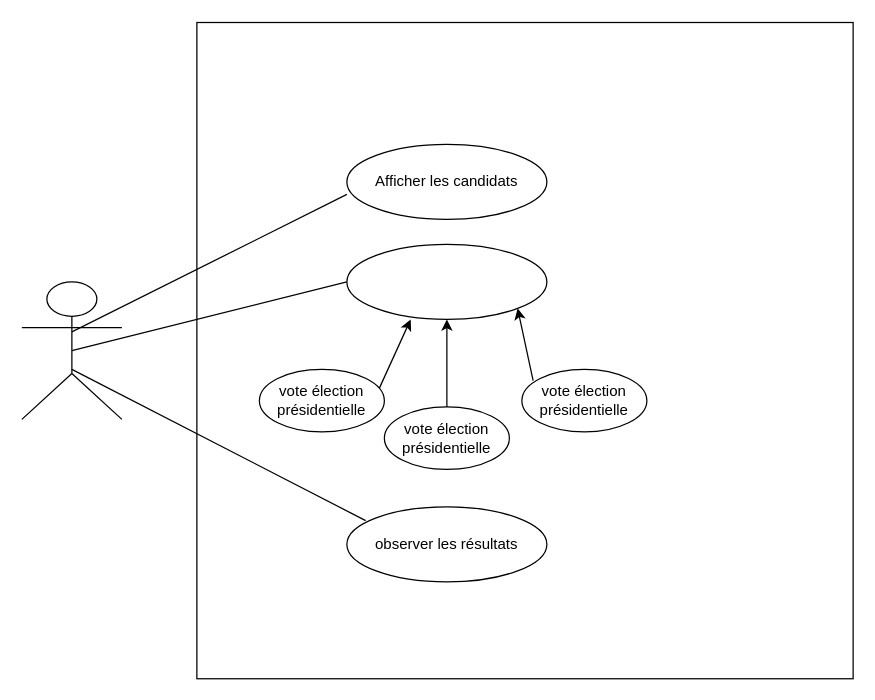
The diagram is 875 pixels wide and 700 high, and some of its shapes have lost their labels. Each missing label, with the box of its shape:
Effectuer vote: (346, 243, 547, 319)
Electeur: (21, 281, 122, 419)
